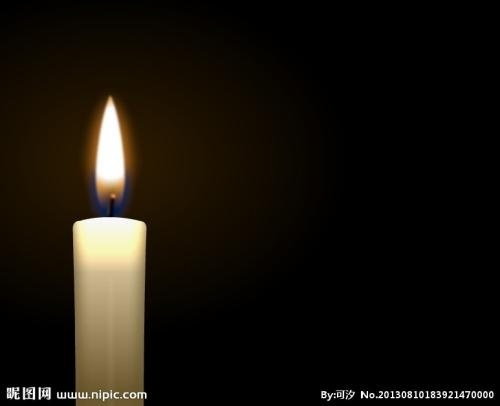fire: (89, 88, 129, 214)
